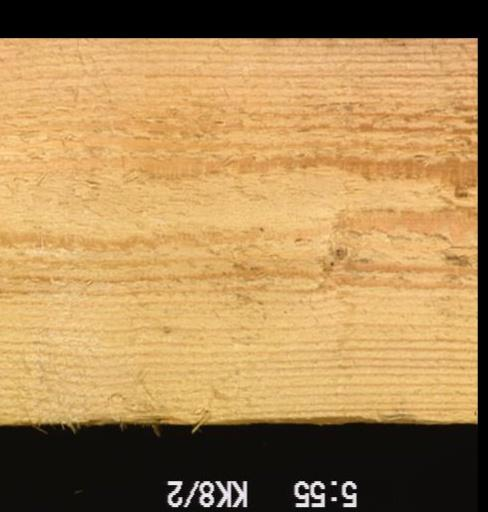small_knot: (331, 245, 349, 264)
wave: (57, 408, 417, 427)
